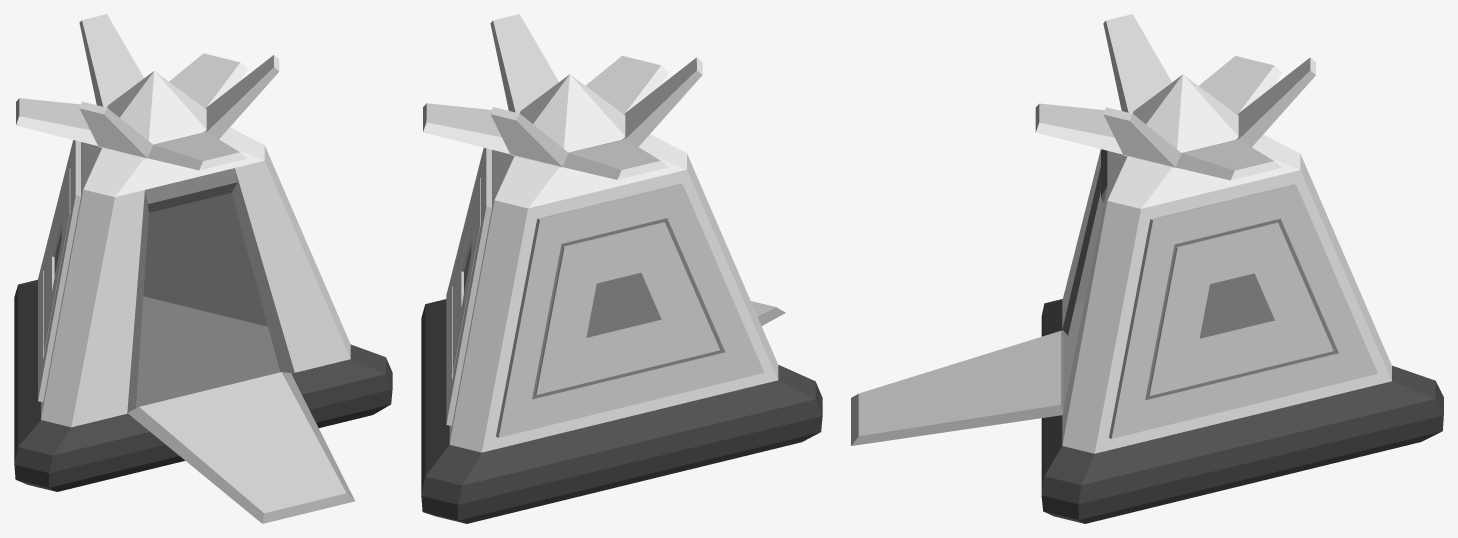
File: DropPod.fbx
3 renders of one model, left to right at view 1: azimuth 30°, elevation 25°; view 2: azimuth 150°, elevation 25°; view 3: azimuth 270°, elevation 25°, orthographic. The views are drawn at different scales.
Visible parts, largest first — view 1: Pod, Door, Nose_Open, Nose_Close; view 2: Pod, Nose_Open, Nose_Close; view 3: Pod, Nose_Open, Door, Nose_Close.
Boxes of the visible parts, x1,y1,x2,y2 form: Pod: [14, 127, 392, 491]; Door: [128, 372, 354, 523]; Nose_Open: [16, 14, 279, 170]; Nose_Close: [98, 71, 206, 158]; Pod: [421, 134, 822, 523]; Nose_Open: [423, 14, 702, 179]; Nose_Close: [510, 74, 625, 167]; Pod: [1041, 134, 1443, 523]; Nose_Open: [1035, 14, 1315, 180]; Door: [851, 330, 1063, 445]; Nose_Close: [1123, 74, 1238, 168].
Bounding box in the file's own units: 716 × 630 × 914.
